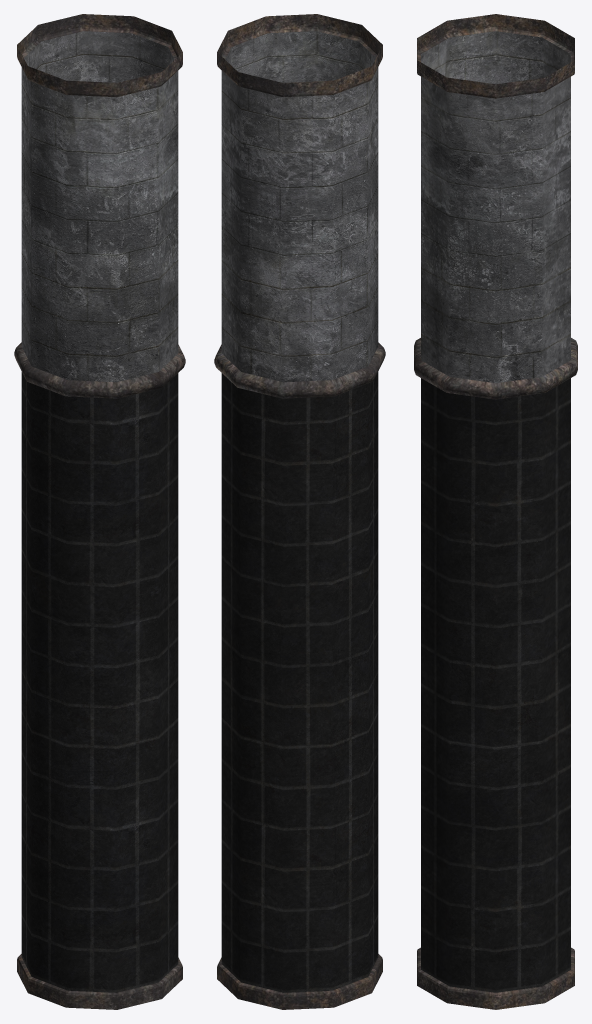
Rendered from BathroomColumn_LOD1.FBX.
3 renders of one model, left to right at view 1: azimuth 30°, elevation 25°; view 2: azimuth 150°, elevation 25°; view 3: azimuth 270°, elevation 25°, orthographic.
Visible parts, largest first — view 1: BathroomColumn_LOD1; view 2: BathroomColumn_LOD1; view 3: BathroomColumn_LOD1.
Boxes of the visible parts, x1,y1,x2,y2 form: BathroomColumn_LOD1: (14, 14, 185, 1009); BathroomColumn_LOD1: (214, 14, 385, 1009); BathroomColumn_LOD1: (414, 14, 577, 1009).
Size of the model in its own units: 23.23 by 138 by 22.09.
